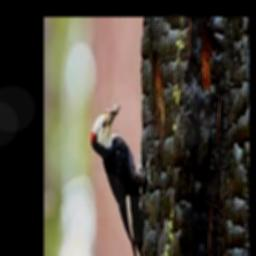Woodpecker: (91, 100, 153, 256)
